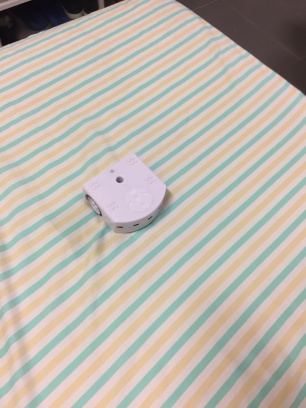thymio: (76, 147, 175, 234)
